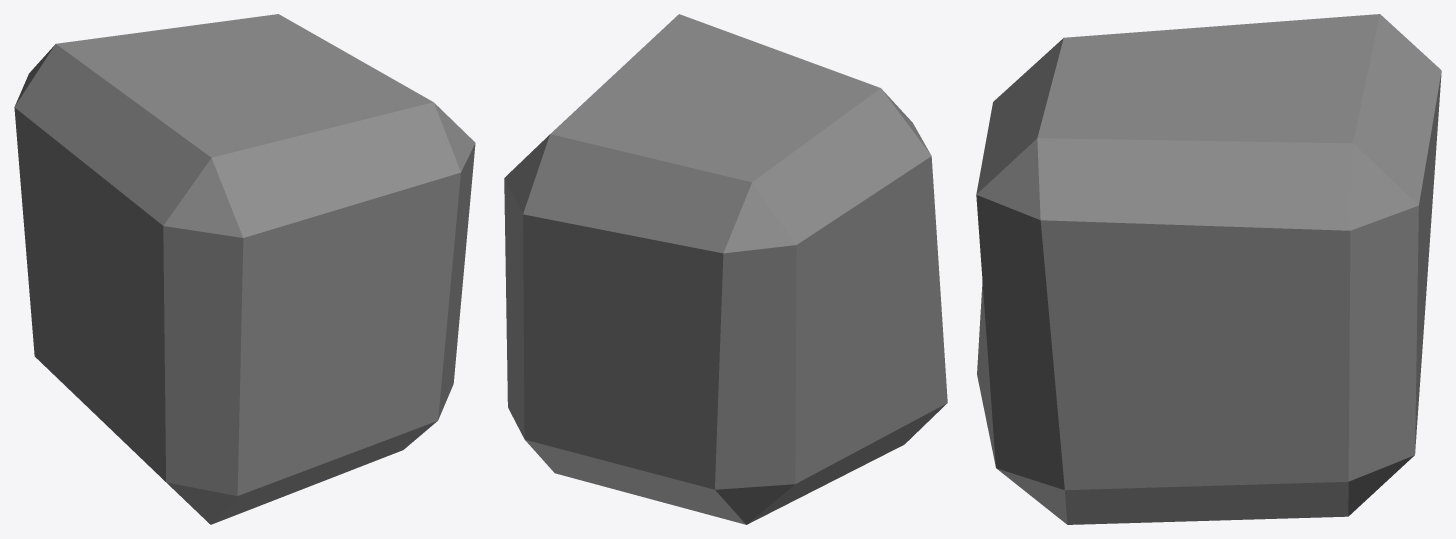
The model's file is Brick_Small_04.fbx.
The picture shows the model from 3 angles, left to right: view 1: azimuth 30°, elevation 25°; view 2: azimuth 150°, elevation 25°; view 3: azimuth 270°, elevation 25°; orthographic projection. The views are drawn at different scales.
Parts seen in each view (by area): view 1: Brick_Small_04; view 2: Brick_Small_04; view 3: Brick_Small_04.
Boxes of the visible parts, x1,y1,x2,y2 form: Brick_Small_04: [14, 14, 475, 524]; Brick_Small_04: [504, 14, 947, 524]; Brick_Small_04: [976, 14, 1441, 524].
Bounding box in the file's own units: 18.2 × 20.72 × 21.09.
